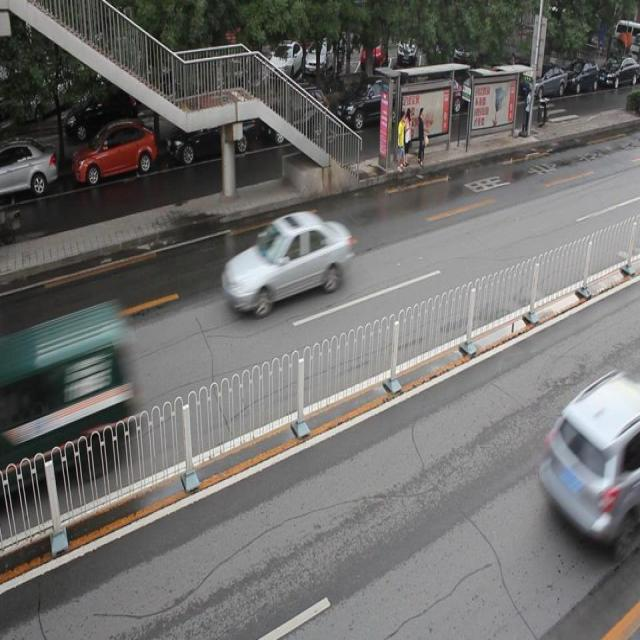car: (535, 368, 640, 554), (221, 210, 351, 320), (70, 122, 156, 184), (165, 102, 253, 160), (334, 77, 402, 132), (262, 89, 326, 144), (1, 136, 56, 198)
truck: (1, 296, 132, 491)
